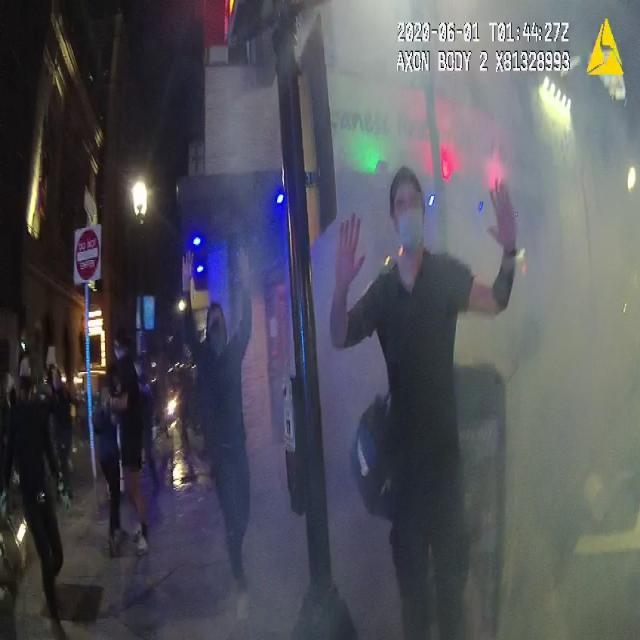protestor: (328, 163, 520, 640), (177, 240, 260, 637), (0, 340, 66, 640)
